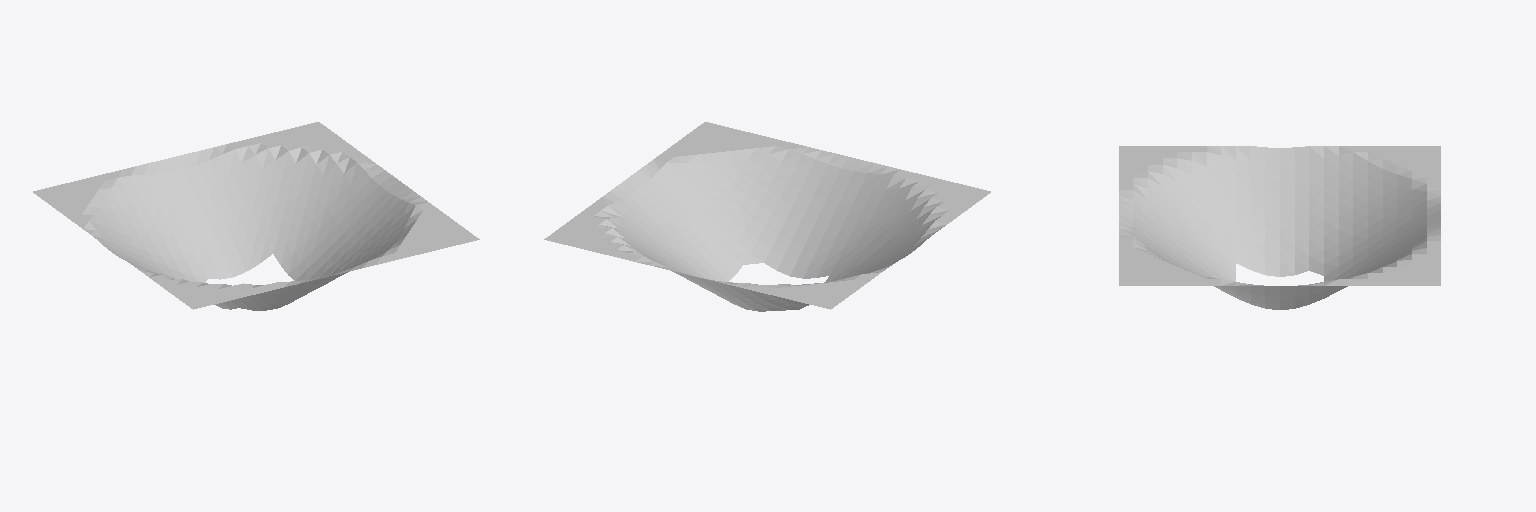
File: ground.obj
3 renders of one model, left to right at view 1: azimuth 30°, elevation 25°; view 2: azimuth 150°, elevation 25°; view 3: azimuth 270°, elevation 25°, orthographic.
Parts seen in each view (by area): view 1: Plane_Plane.001; view 2: Plane_Plane.001; view 3: Plane_Plane.001.
Part boxes in pixels (bbox=[...]): Plane_Plane.001: bbox=[33, 122, 479, 310]; Plane_Plane.001: bbox=[544, 122, 990, 311]; Plane_Plane.001: bbox=[1119, 146, 1440, 309].
Bounding box in the file's own units: 23.23 × 6.23 × 22.59.